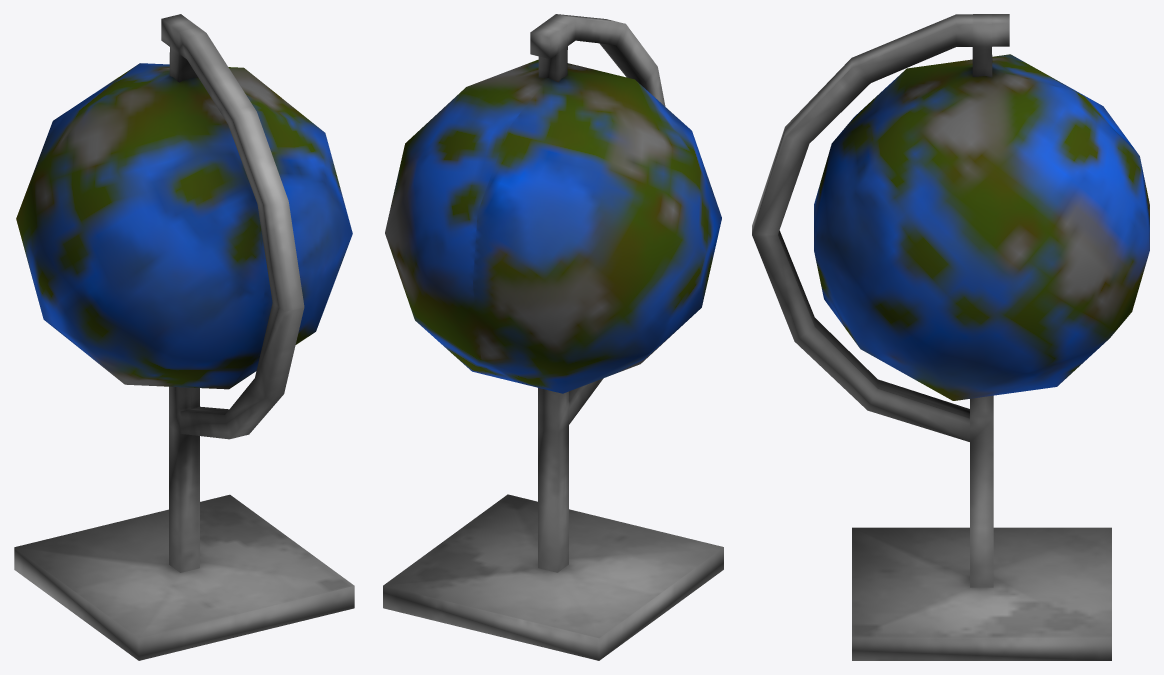
File: Globe1.fbx
The picture shows the model from 3 angles, left to right: view 1: azimuth 30°, elevation 25°; view 2: azimuth 150°, elevation 25°; view 3: azimuth 270°, elevation 25°; orthographic projection. The views are drawn at different scales.
Parts seen in each view (by area): view 1: Globe1; view 2: Globe1; view 3: Globe1.
Part boxes in pixels (x1,y1,x2,y2): Globe1: (14, 14, 354, 660); Globe1: (383, 14, 723, 660); Globe1: (752, 14, 1149, 660).
Size of the model in its own units: 0.1962 by 0.3599 by 0.221.
1 material, 1 textured.
